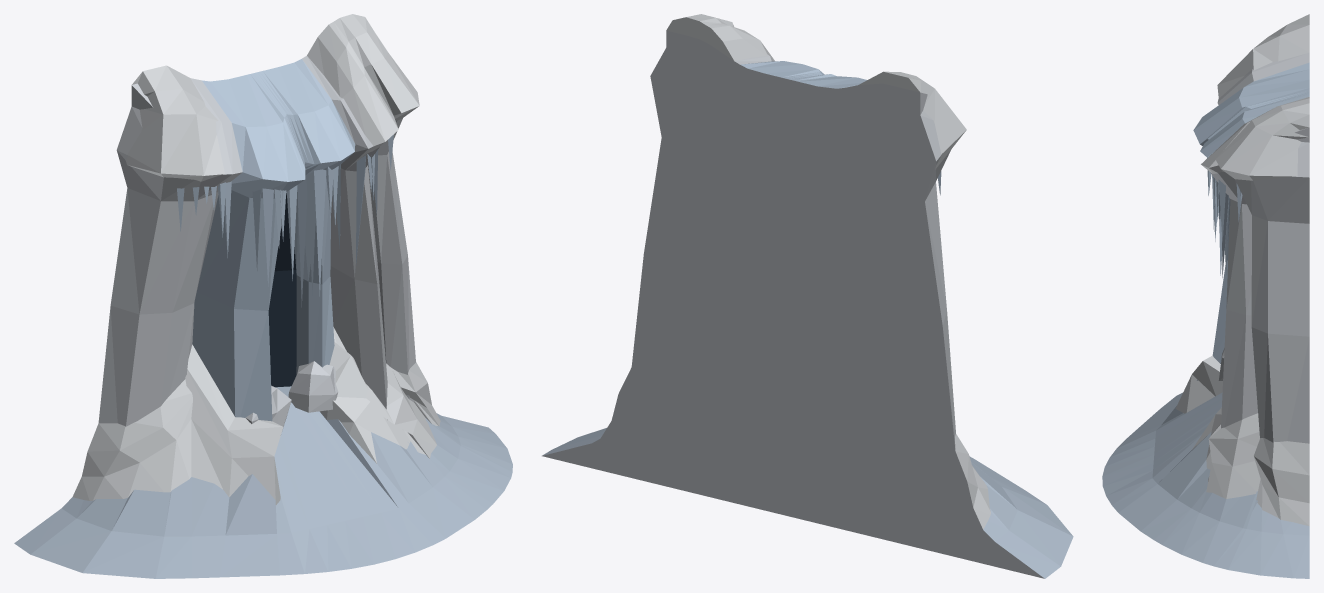
The model's file is frozen-waterfall-5d1fc6.glb.
3 views of the same model, side by side, from view 1: azimuth 30°, elevation 25°; view 2: azimuth 150°, elevation 25°; view 3: azimuth 270°, elevation 25° (orthographic). The views are drawn at different scales.
Visible parts, largest first — view 1: waterfall; view 2: waterfall; view 3: waterfall.
Boxes of the visible parts, x1=… form: waterfall: x1=14, y1=14, x2=512, y2=578; waterfall: x1=542, y1=14, x2=1073, y2=578; waterfall: x1=1102, y1=14, x2=1309, y2=578.
Bounding box in the file's own units: 4.44 × 3.99 × 1.81.
